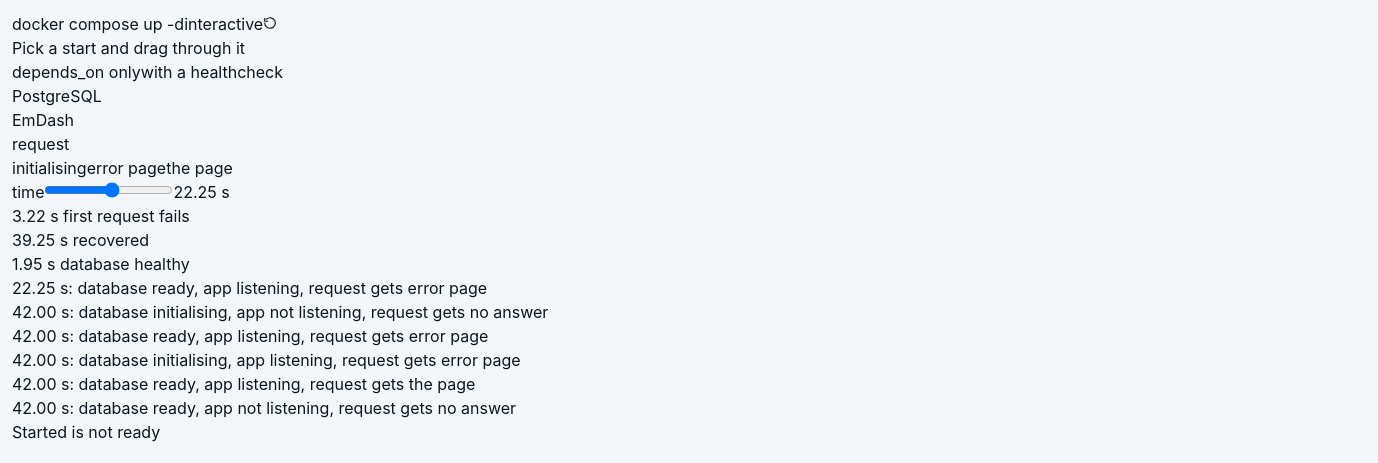
Scenario: StartupTimeline › reset returns to the served moment
The width and height of the screenshot is (1378, 463).
Click the button "with a healthcheck" at coordinates (212, 72), box x1=141 y1=60 x2=283 y2=84
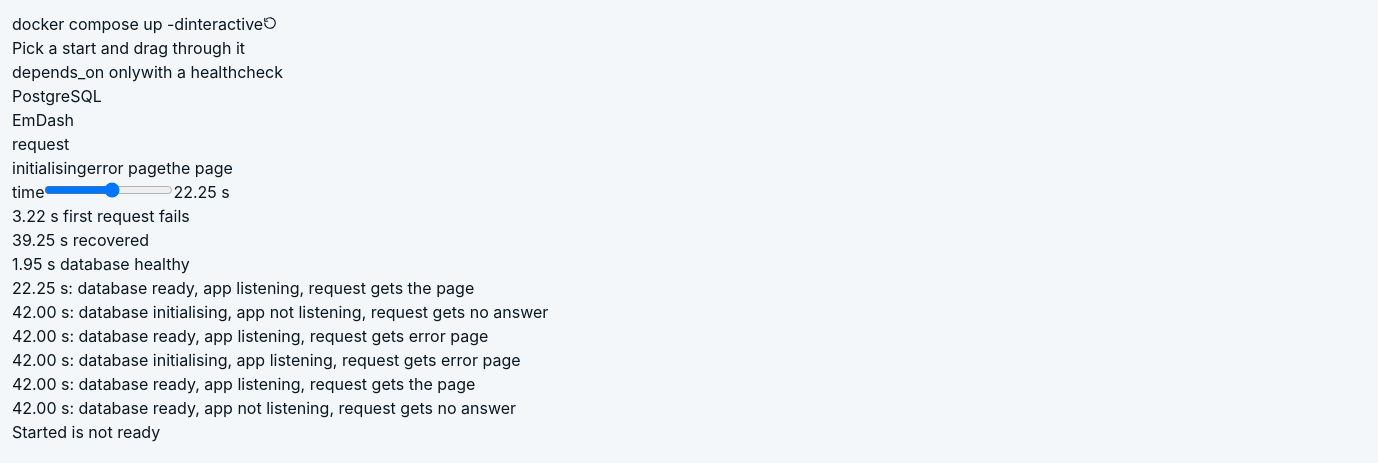
Click the button named "Reset" at coordinates (270, 23), box x1=263 y1=16 x2=277 y2=30
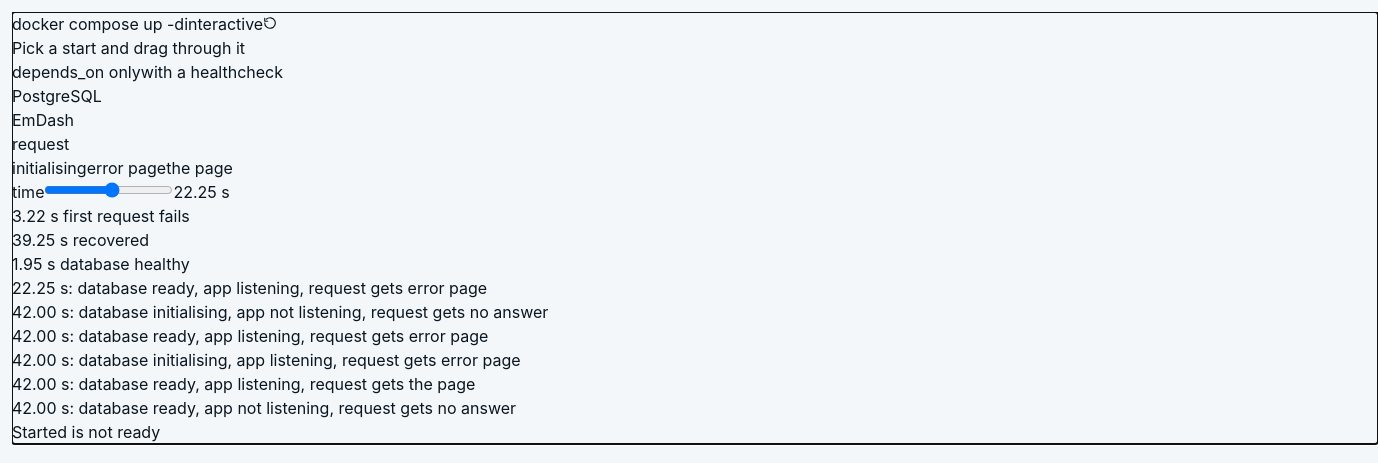
Result: the text "error page" is shown at x1=12 y1=278 x2=487 y2=298
